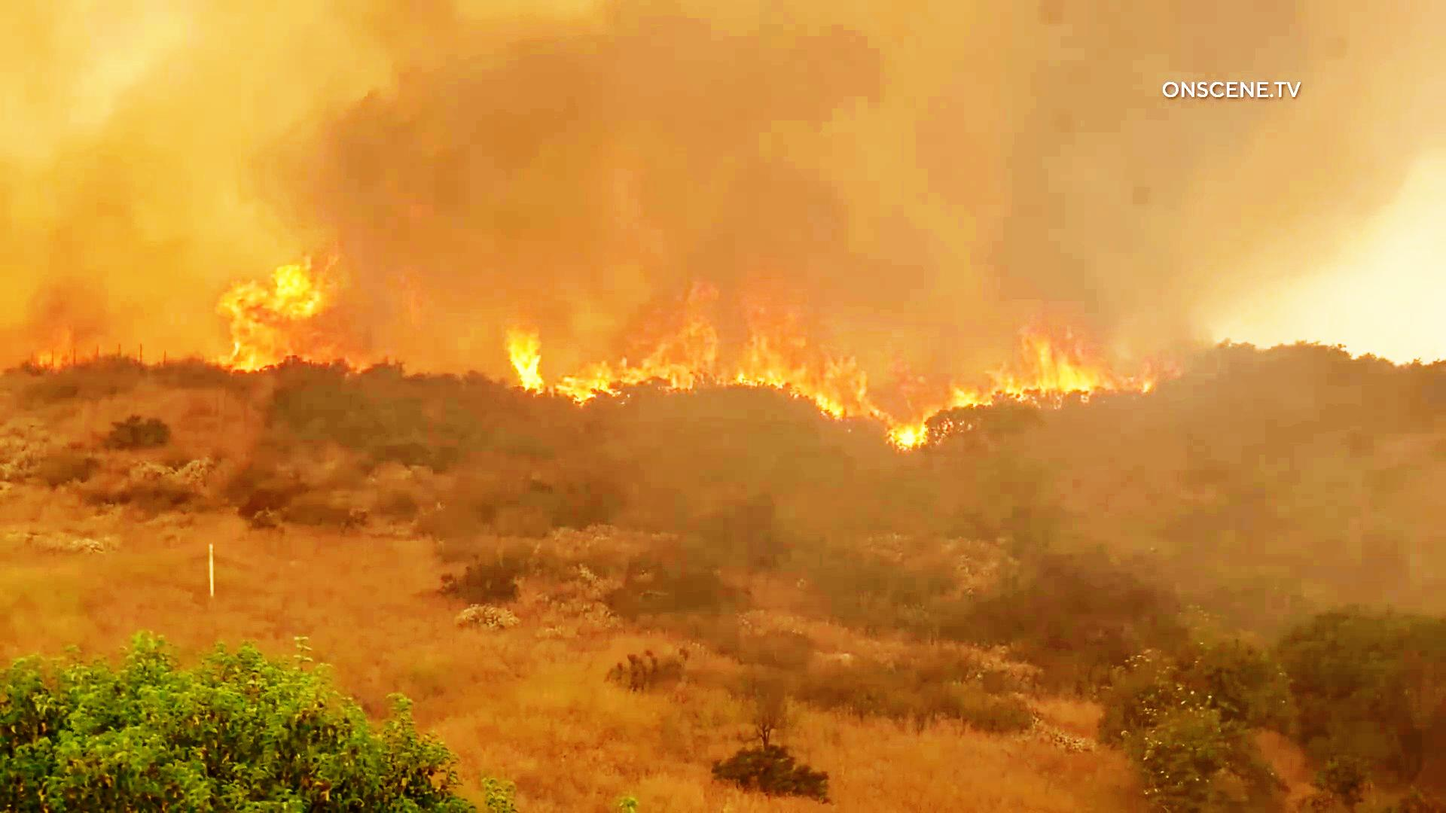fire: (622, 264, 921, 443), (185, 241, 341, 384), (983, 290, 1141, 405), (492, 311, 554, 390)
